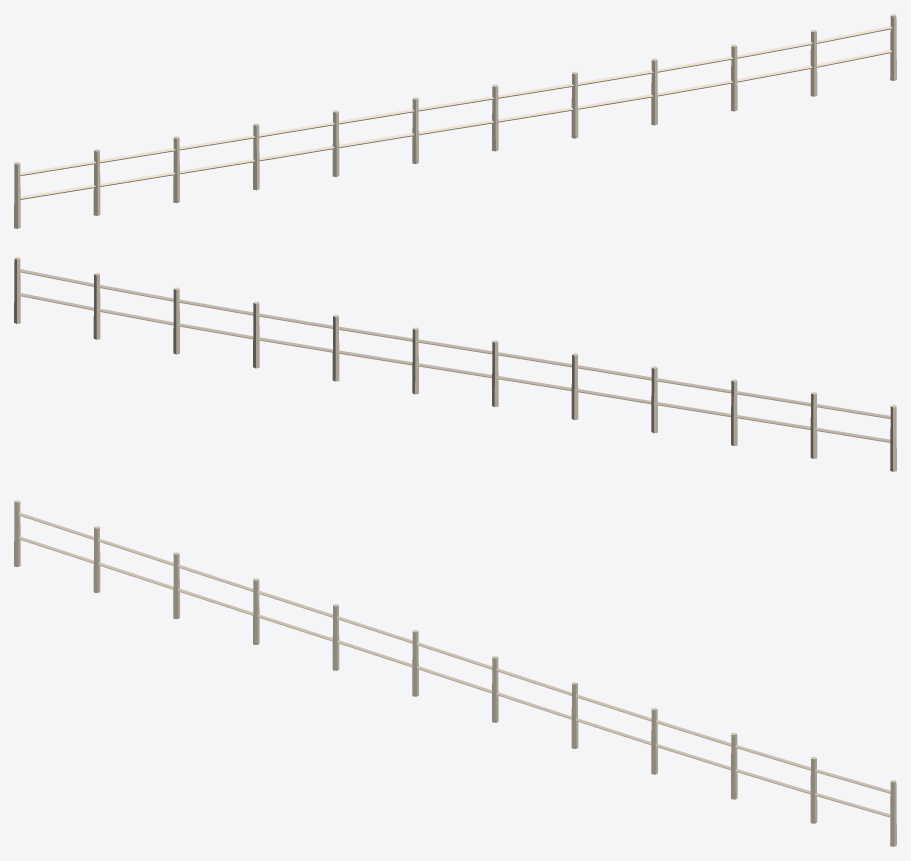
3 renders of one model, top to bottom at view 1: azimuth 30°, elevation 25°; view 2: azimuth 150°, elevation 25°; view 3: azimuth 330°, elevation 25°, orthographic.
Parts seen in each view (by area): view 1: WB_fence_97_156; view 2: WB_fence_97_156; view 3: WB_fence_97_156.
Boxes of the visible parts, left/top/right/bottom form: WB_fence_97_156: left=14, top=14, right=896, bottom=228; WB_fence_97_156: left=14, top=257, right=896, bottom=471; WB_fence_97_156: left=14, top=500, right=896, bottom=846.
Bounding box in the file's own units: 19.38 × 2.73 × 0.1331.
